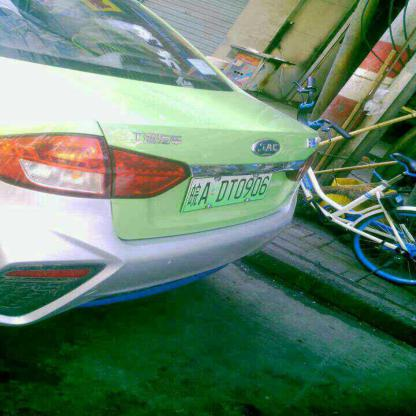lp: (181, 172, 274, 211)
